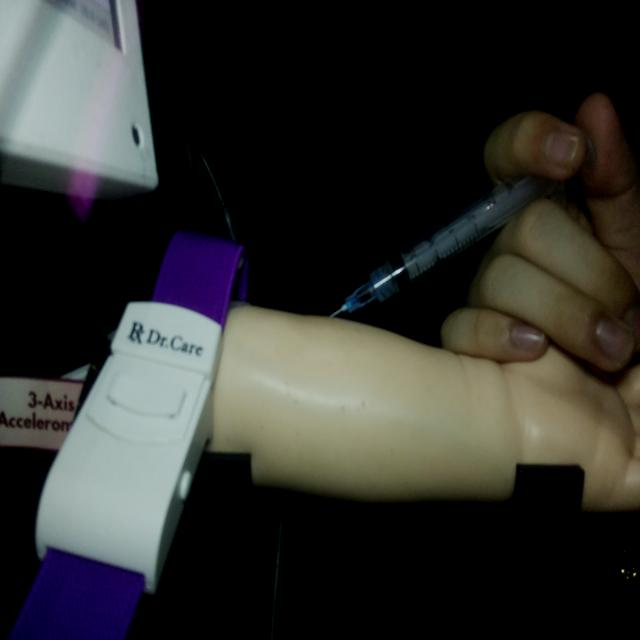25 degrees: (328, 124, 598, 318)
